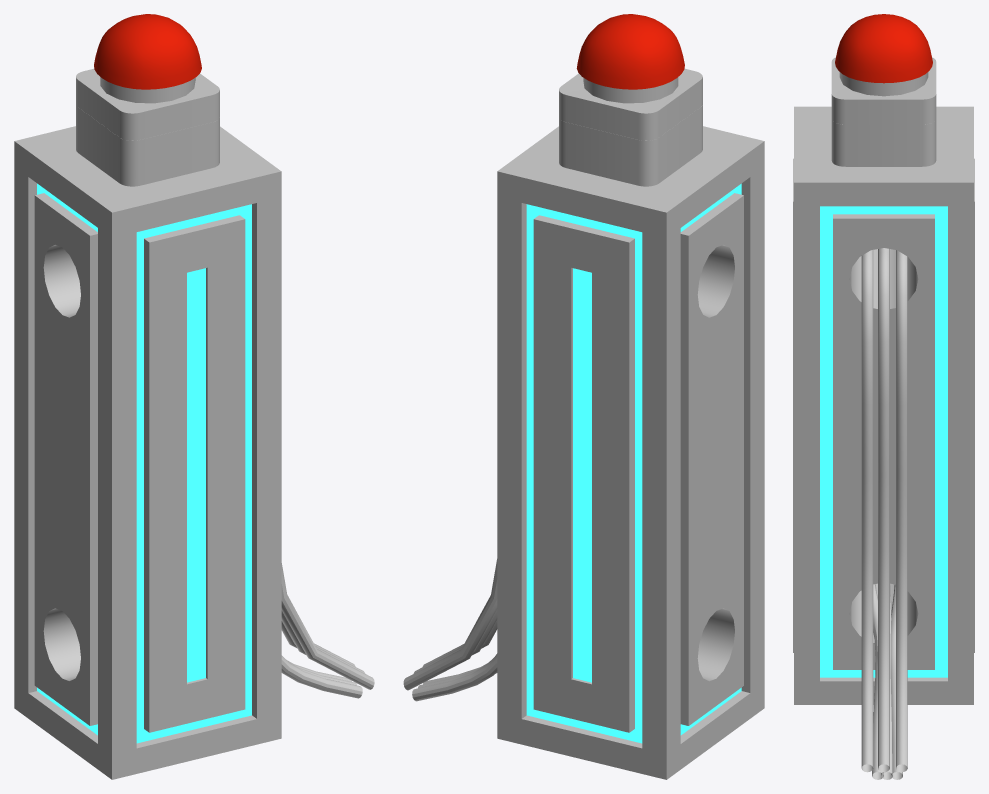
Rendered from Button.fbx.
3 views of the same model, side by side, from view 1: azimuth 30°, elevation 25°; view 2: azimuth 150°, elevation 25°; view 3: azimuth 270°, elevation 25° (orthographic). The views are drawn at different scales.
Parts seen in each view (by area): view 1: Cube, Cube.003; view 2: Cube, Cube.003; view 3: Cube, Cube.003.
Boxes of the visible parts, x1,y1,x2,y2 form: Cube: [14, 68, 374, 779]; Cube.003: [94, 14, 201, 89]; Cube: [403, 68, 764, 779]; Cube.003: [576, 14, 684, 89]; Cube: [793, 57, 974, 779]; Cube.003: [835, 14, 932, 83].
Size of the model in its own units: 44.5 by 102 by 25.25.
